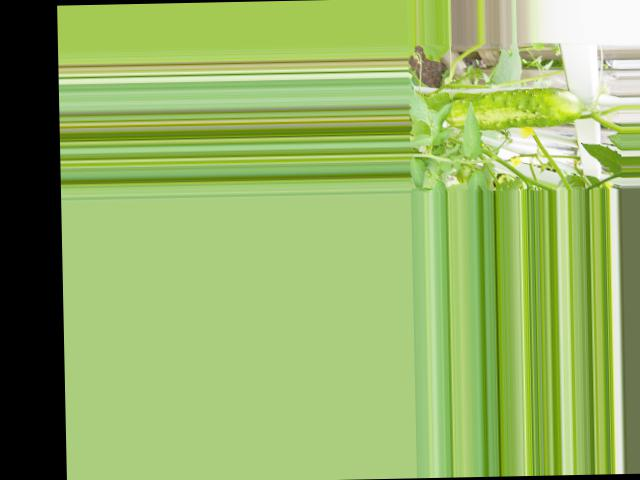cucumber: (446, 87, 583, 129)
